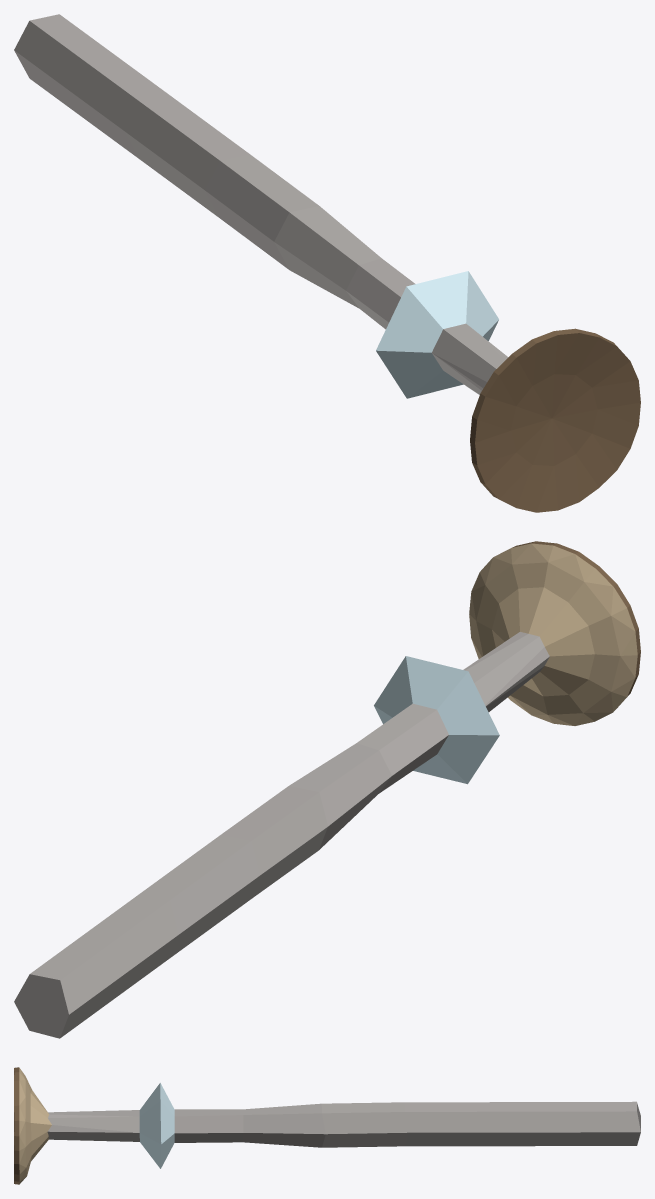
Rendered from Wep_Hammer_32.fbx.
3 renders of one model, top to bottom at view 1: azimuth 30°, elevation 25°; view 2: azimuth 150°, elevation 25°; view 3: azimuth 270°, elevation 25°, orthographic. The views are drawn at different scales.
Visible parts, largest first — view 1: Mushroom_Sword; view 2: Mushroom_Sword; view 3: Mushroom_Sword.
Part boxes in pixels (x1,y1,x2,y2): Mushroom_Sword: (14, 14, 640, 512); Mushroom_Sword: (14, 541, 640, 1038); Mushroom_Sword: (14, 1067, 640, 1184).
Size of the model in its own units: 24.95 by 25.2 by 133.
